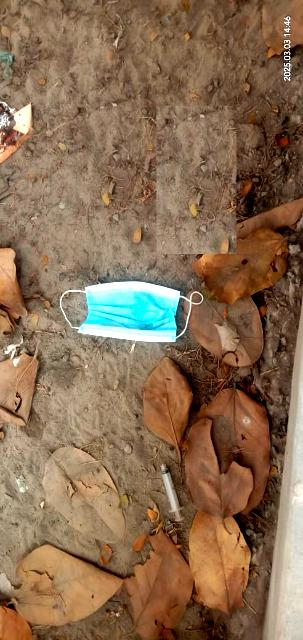mask: (81, 258, 200, 354)
